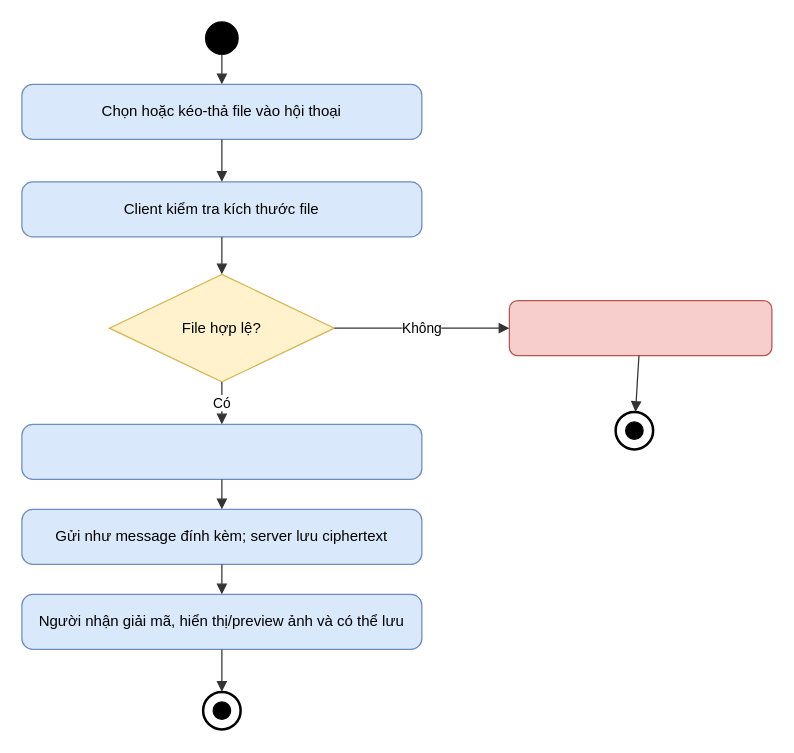
Image size: 794x753. Some labels were removed from this diagram. Each missing label, with the box of its shape:
Mã hóa payload trong lớp E2EE của hội thoại: (21, 423, 422, 479)
Từ chối (rỗng / quá lớn / lỗi đọc): (508, 299, 772, 356)
